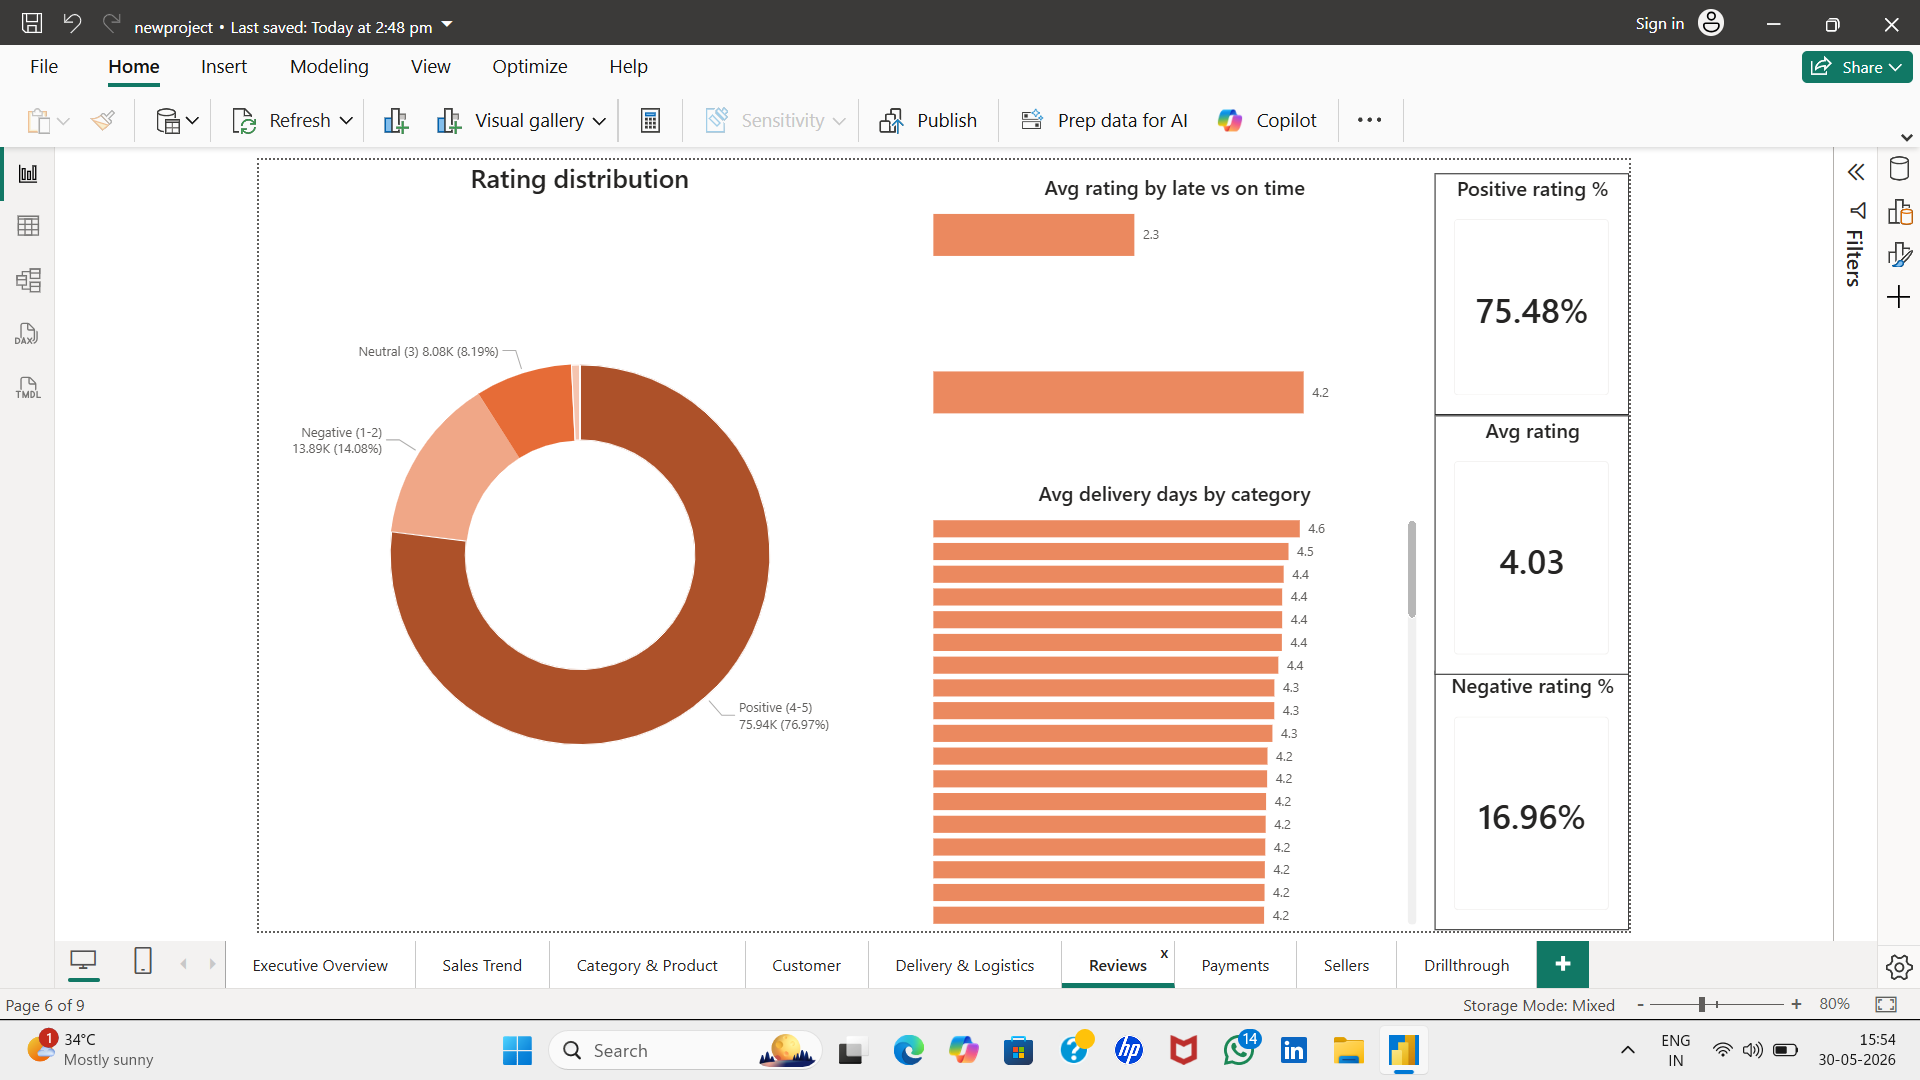

This screenshot's page, from the dashboard's own definition file:
{"tool":"powerbi","page":{"name":"Reviews","canvas":[1280,720],"ordinal":5},"visuals":[{"type":"cardVisual","title":"Positive rating %","fields":{"Data":["public bi_fact_sales.Positive Reviews %"]},"box":[1098.4,13,182,225.9],"z":0},{"type":"cardVisual","title":"Negative rating %","fields":{"Data":["public bi_fact_sales.Negative Reviews %"]},"box":[1098.4,477.7,182,242.1],"z":1000},{"type":"cardVisual","title":"Avg rating","fields":{"Data":["public bi_fact_sales.Avg Rating"]},"box":[1098.4,238.9,182,242.1],"z":2000},{"type":"donutChart","title":"Rating distribution","fields":{"Y":["public bi_fact_sales.Orders"],"Category":["public bi_fact_sales.Review Bucket"]},"box":[0,0,599.6,705.2],"z":3000},{"type":"barChart","title":"Avg delivery days by category","fields":{"Category":["public bi_fact_sales.category"],"Y":["public bi_fact_sales.Avg Rating"]},"box":[625.6,299,461.5,420.8],"z":4000},{"type":"barChart","title":"Avg rating by late vs on time","fields":{"Y":["public bi_fact_sales.Avg Rating"],"Category":["public bi_fact_sales.is_late"]},"box":[625.6,13,461.5,229.1],"z":5000}]}

Visuals, with their boxes on the page's 1280x720 design canvas (x1, y1, x2, y2). These are canvas units, not pixel positions in the 1920x1080 screenshot, which may show the page scaled, cropped or inside an application window:
"Positive rating %" cardVisual: detection(1098, 13, 1280, 239)
"Negative rating %" cardVisual: detection(1098, 478, 1280, 720)
"Avg rating" cardVisual: detection(1098, 239, 1280, 481)
"Rating distribution" donutChart: detection(0, 0, 600, 705)
"Avg delivery days by category" barChart: detection(626, 299, 1087, 720)
"Avg rating by late vs on time" barChart: detection(626, 13, 1087, 242)
